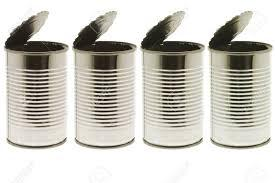Tin: (0, 7, 68, 159), (73, 10, 139, 163), (143, 10, 204, 156), (211, 13, 271, 161)
